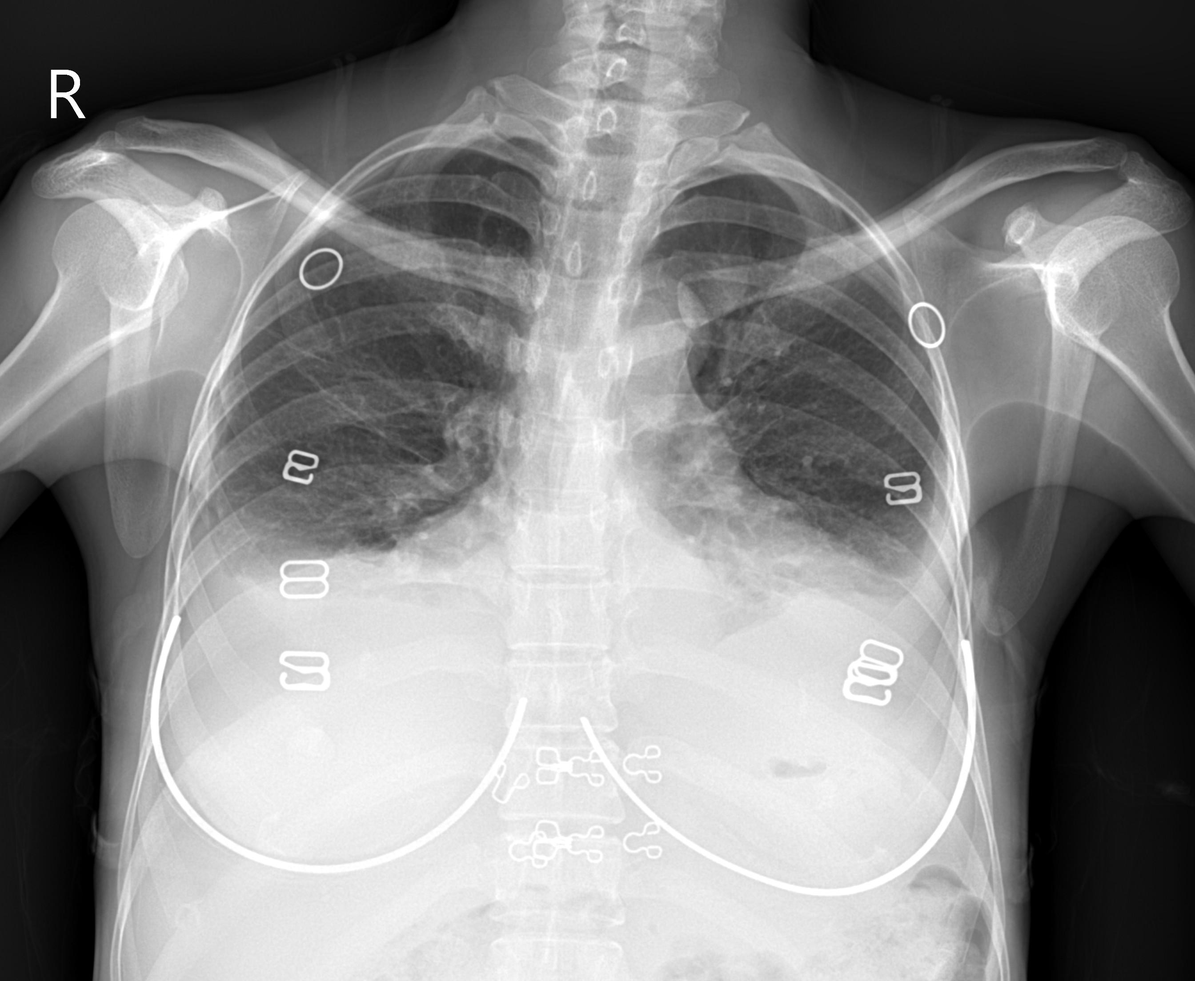Pulmonary fibrosis: (259, 323, 370, 427)
